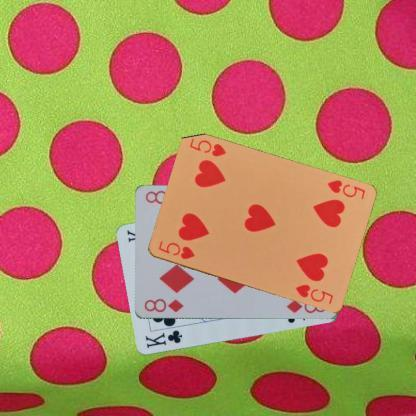5h: (324, 177, 366, 201), (155, 238, 196, 261)
8d: (140, 296, 184, 314)
Kc: (142, 328, 184, 350)
